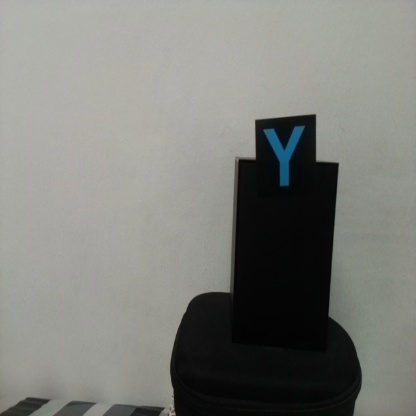id_14: (254, 116, 318, 196)
